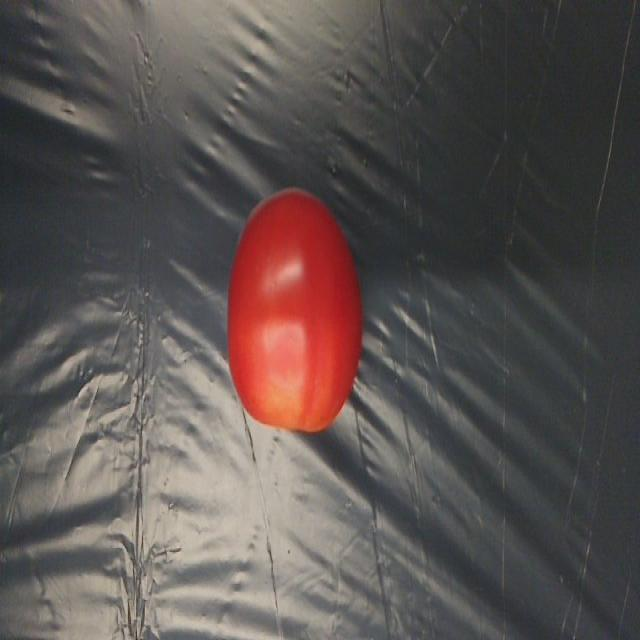kirmizi: (212, 173, 367, 448)
